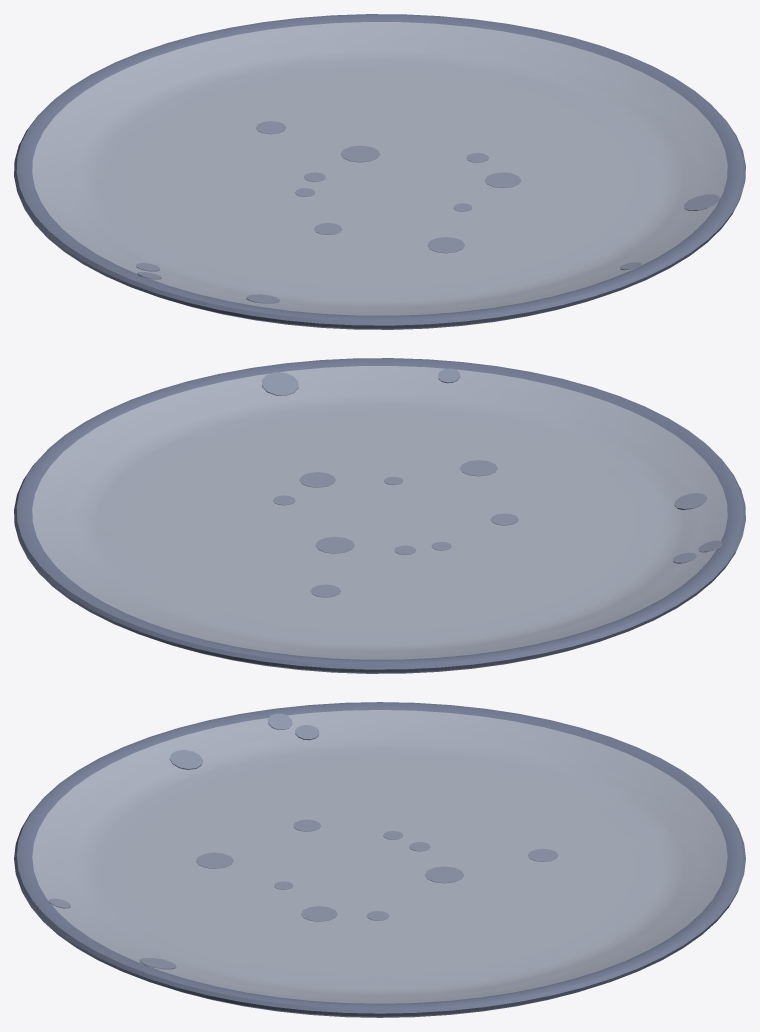
Rendered from plate_moon.glb.
The picture shows the model from 3 angles, top to bottom: view 1: azimuth 30°, elevation 25°; view 2: azimuth 150°, elevation 25°; view 3: azimuth 270°, elevation 25°; orthographic projection.
Parts seen in each view (by area): view 1: body; view 2: body; view 3: body.
Part boxes in pixels (x1,y1,x2,y2): body: (14,14,745,329); body: (14,358,745,673); body: (14,702,745,1017).
Size of the model in its own units: 1.6 by 0.0939 by 1.6.
